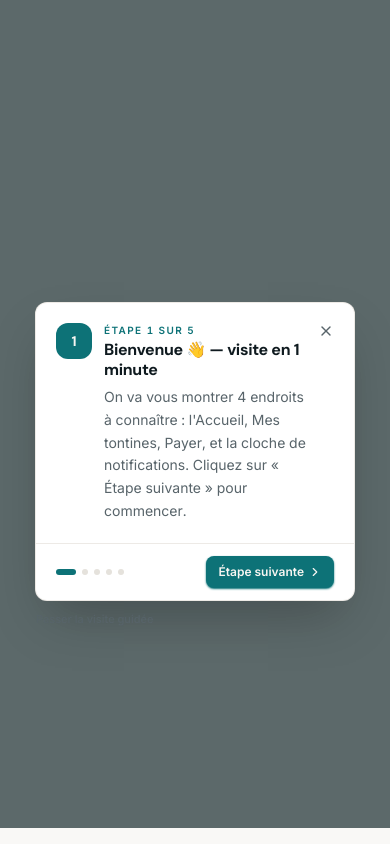
Test case: call interrupts without destroying work › resumes the tour at the same step, including after a minimized session
Click the button "Étape suivante" at (270, 572), box [206,556,334,588]
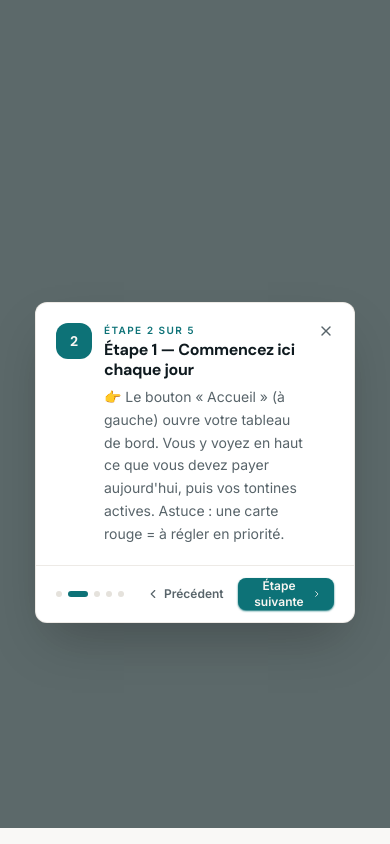
Result: the heading with id "tour-title" reads "Étape 1 — Commencez ici chaque jour" at [104,339,295,380]
